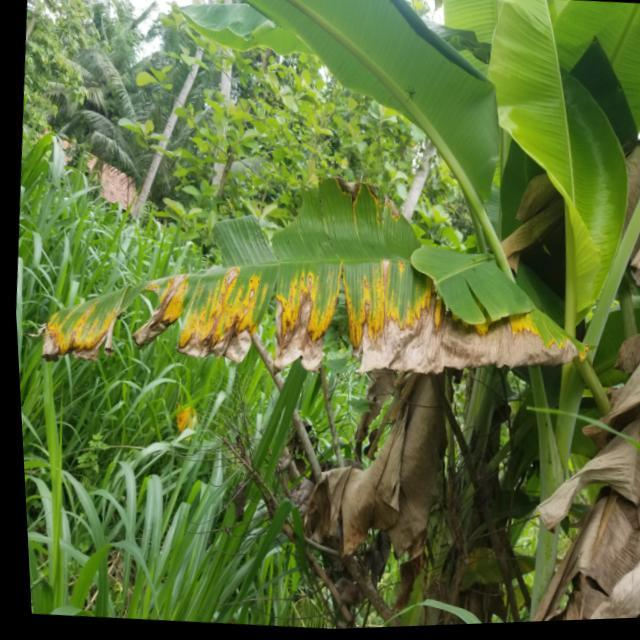Early_rust: (15, 193, 570, 421)
